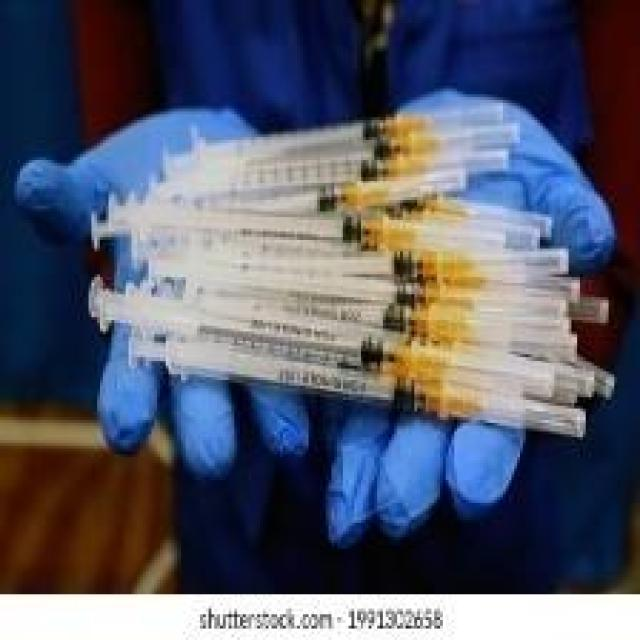syringe: (102, 102, 598, 452)
